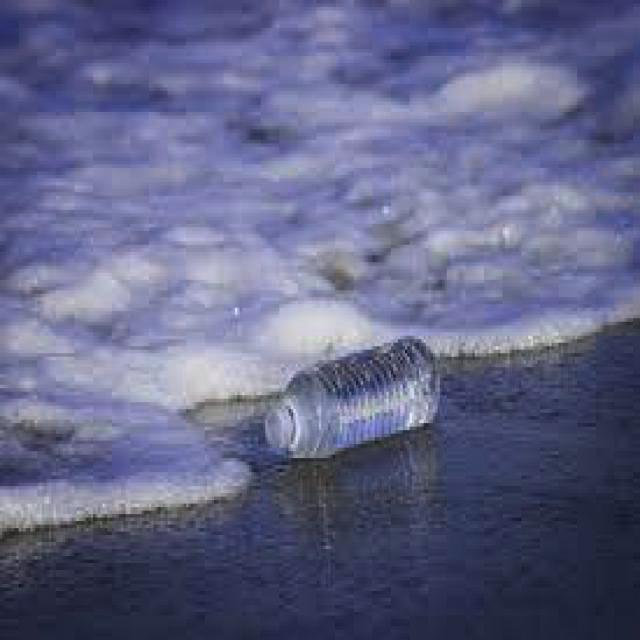bottle: (266, 336, 441, 459)
